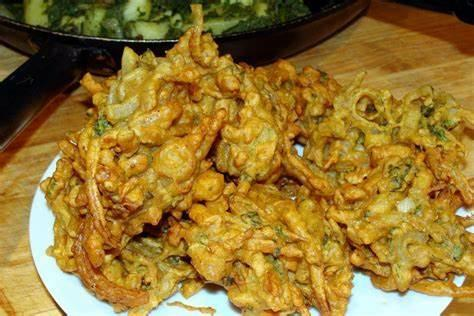OnionPakoda: (40, 3, 474, 316)
